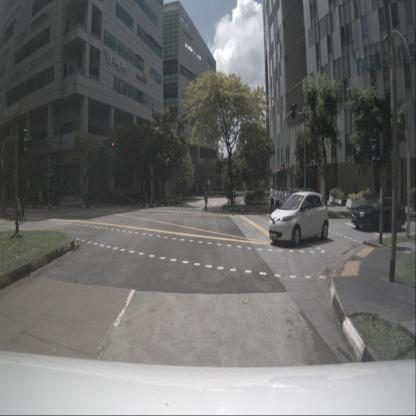human-pedestrian-adult: (278, 186, 284, 218), (269, 186, 275, 218), (15, 194, 21, 225), (284, 188, 290, 216), (21, 192, 26, 224), (275, 186, 280, 218), (204, 189, 208, 211), (233, 188, 236, 204)
vehicle-car: (269, 190, 329, 248), (351, 195, 406, 232)
